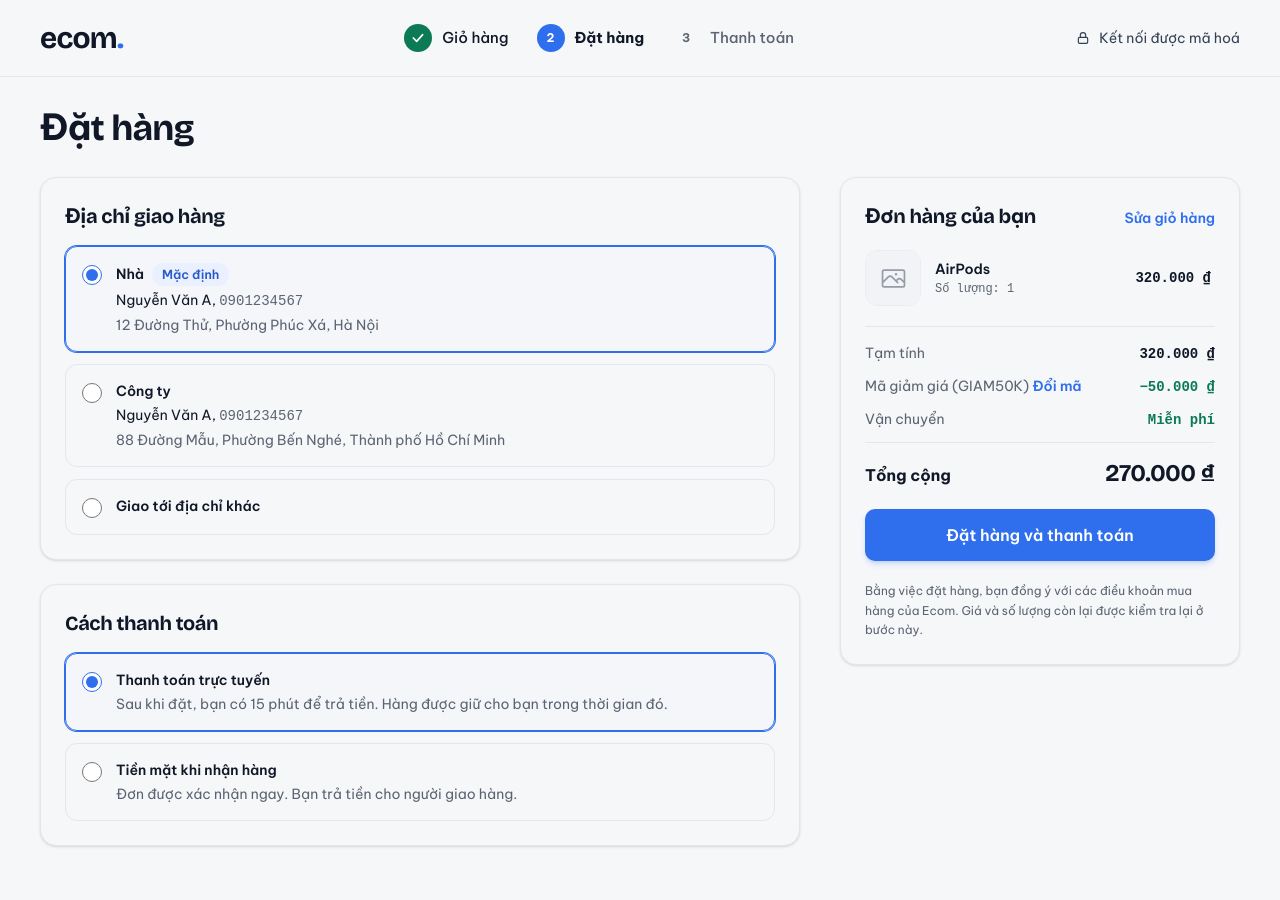
Test case: CheckoutPage with a voucher (a signed-in customer) › placing the order with the voucher (AC-18) › after the order the page never says the cart is empty and never checks the voucher on the empty cart
The image size is (1280, 900).
expect the text "Mã giảm giá (GIAM50K) Đổi mã" is shown: met, box x1=865 y1=376 x2=1082 y2=396
Click the button "Đặt hàng và thanh toán".
click(1040, 535)  # box x1=865 y1=509 x2=1215 y2=561
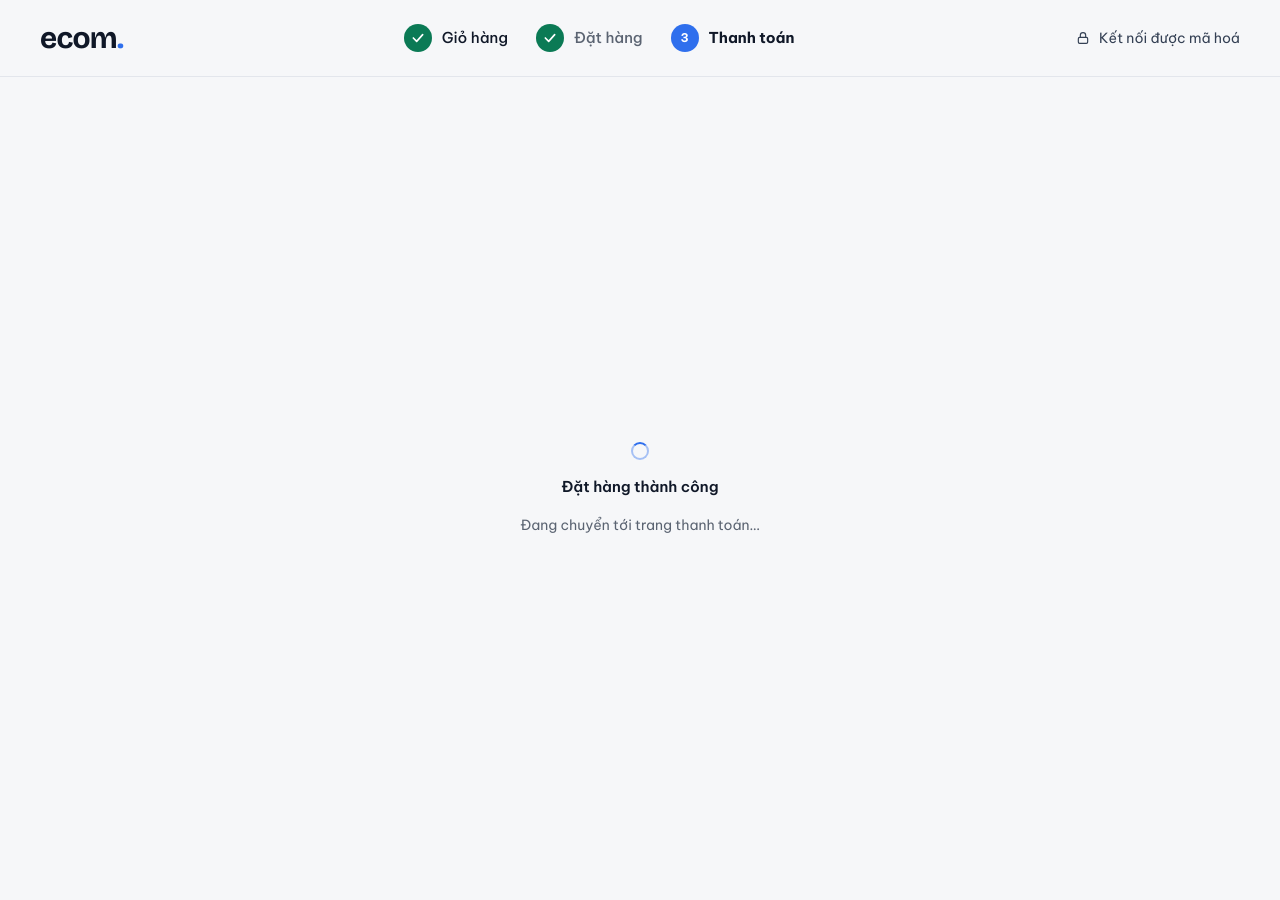
expect the text "Đang chuyển tới trang thanh toán…" is shown: met, box x1=520 y1=515 x2=760 y2=535
